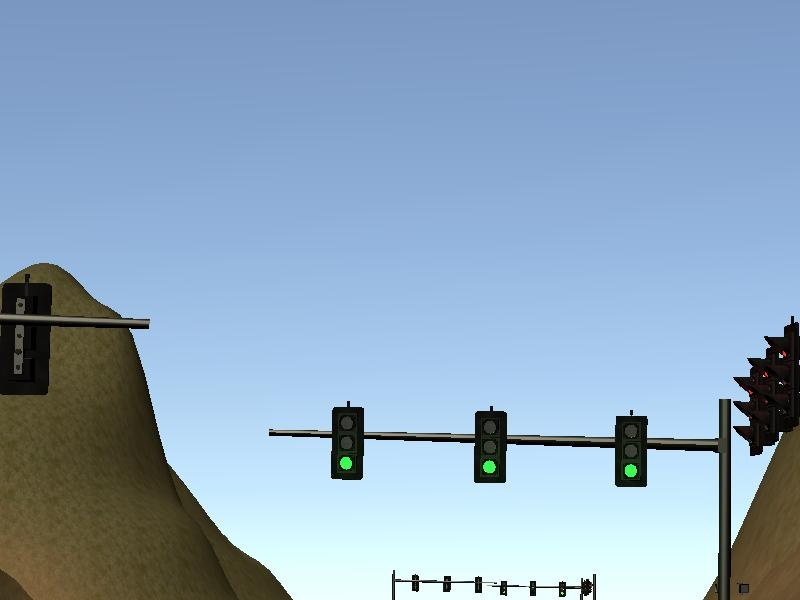traffic_light_green: (307, 398, 719, 490)
